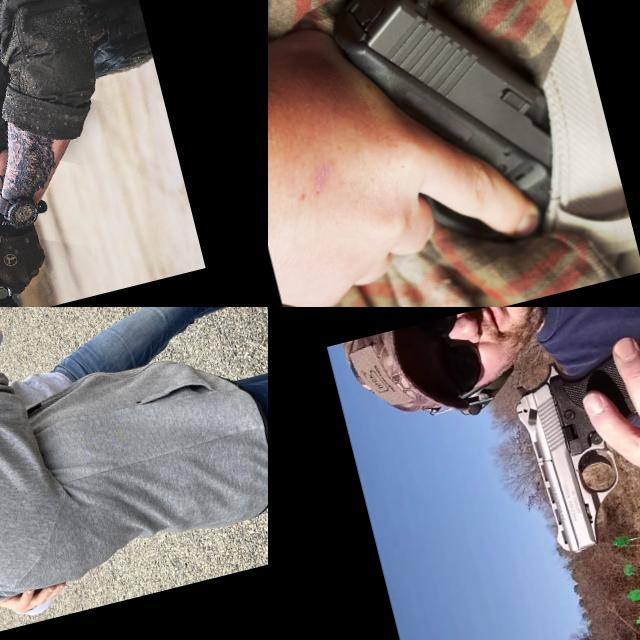handgun: (283, 0, 589, 283), (502, 331, 640, 561), (0, 218, 48, 307), (0, 307, 48, 359)
